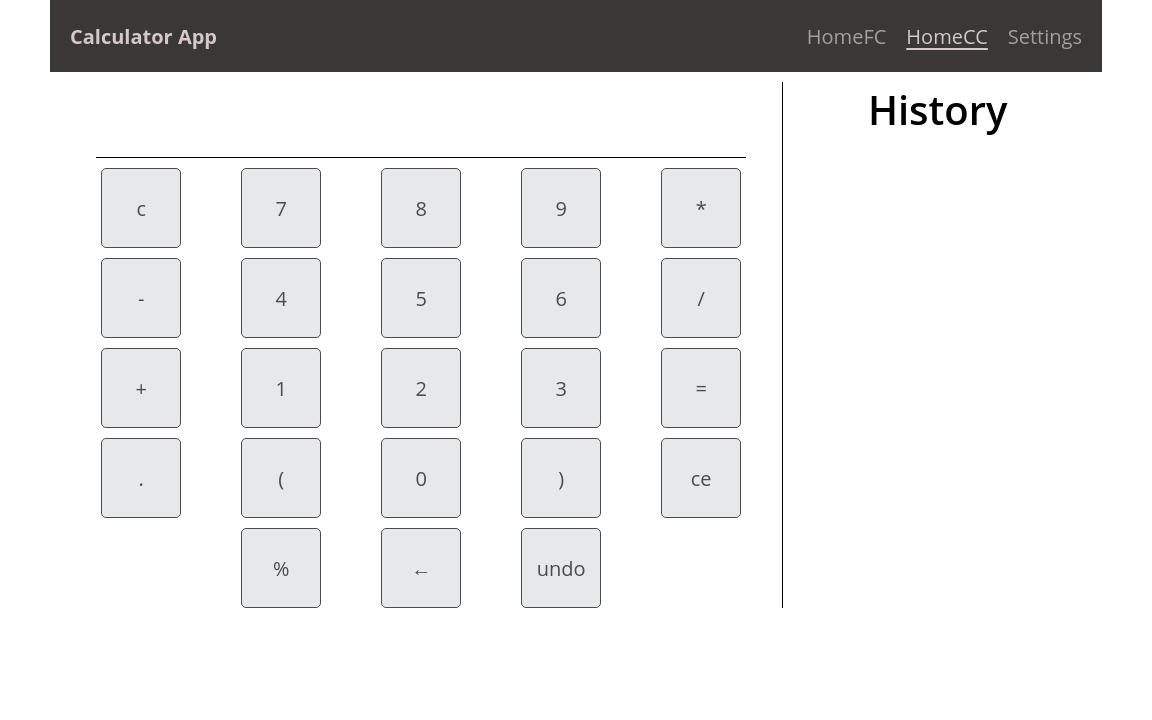
it: test calcurator app › testing CC divide command
Expected: the element with test id "keypadCC" is shown, [60,158,782,608]
Click the text "5" at (421, 298), box [381,258,461,338]
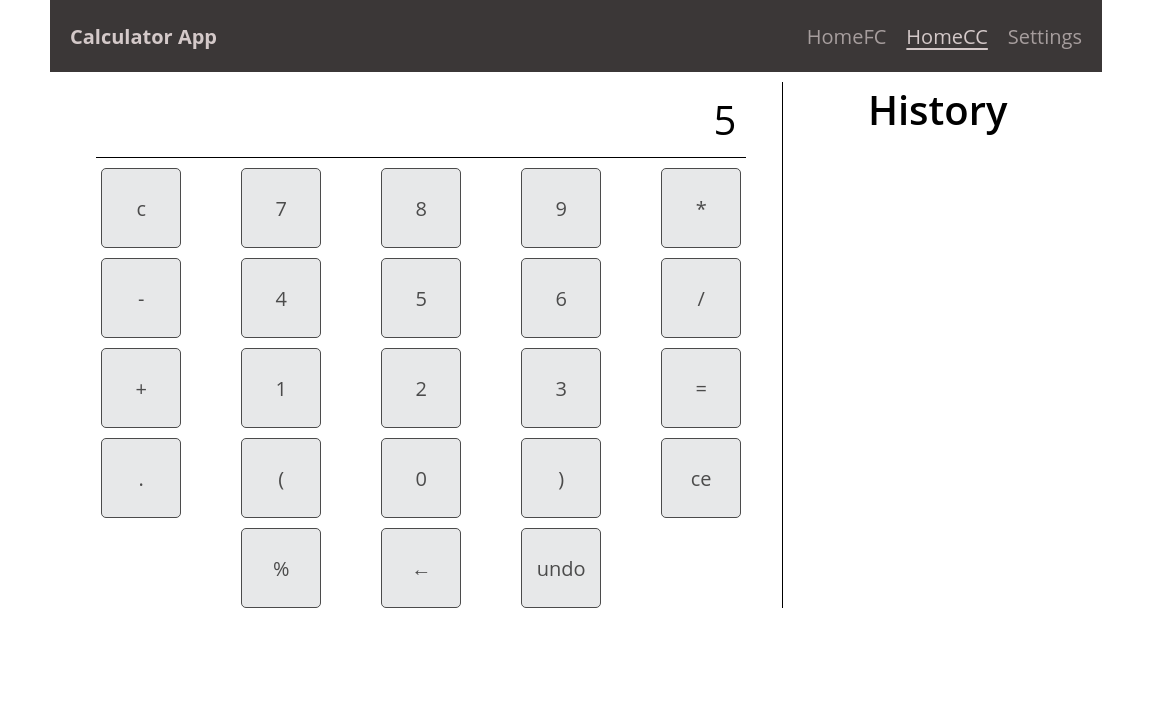
Expected: the element with test id "keypadCC" is shown, [60,158,782,608]
Click the text "/" at (701, 298), box [661,258,741,338]
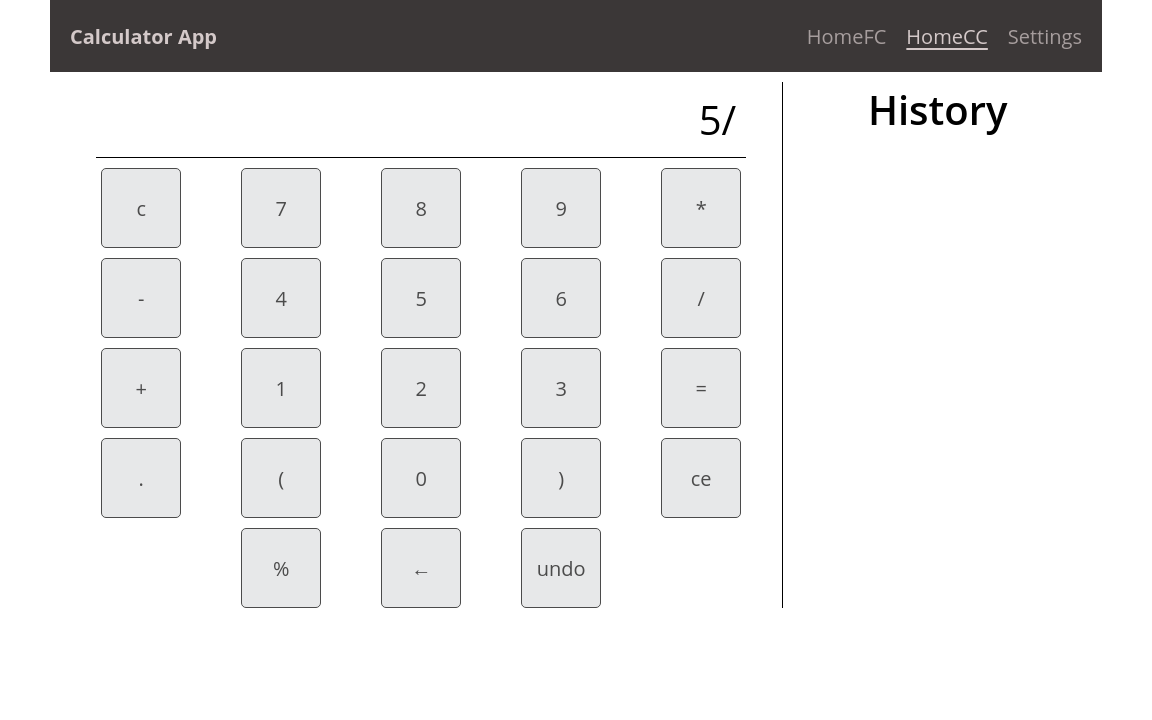
Expected: the element with test id "keypadCC" is shown, [60,158,782,608]
Click the text "6" at (561, 298), box [521,258,601,338]
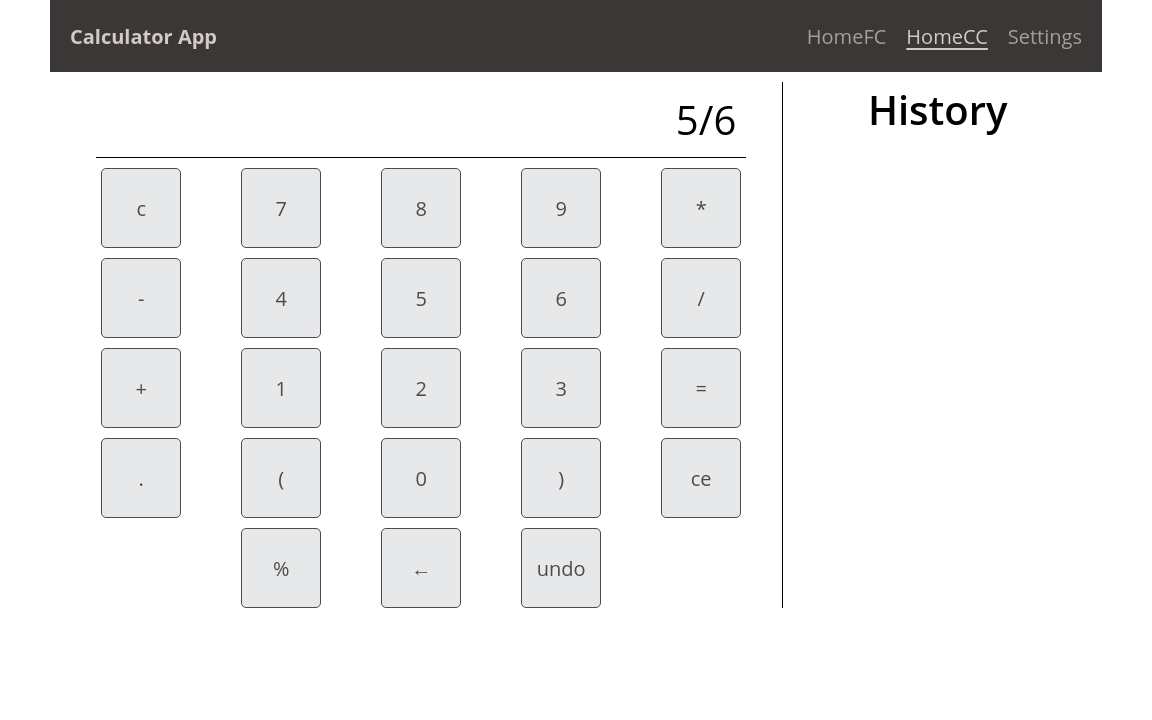
Expected: the element with test id "keypadCC" is shown, [60,158,782,608]
Click the text "=" at (701, 388), box [661,348,741,428]
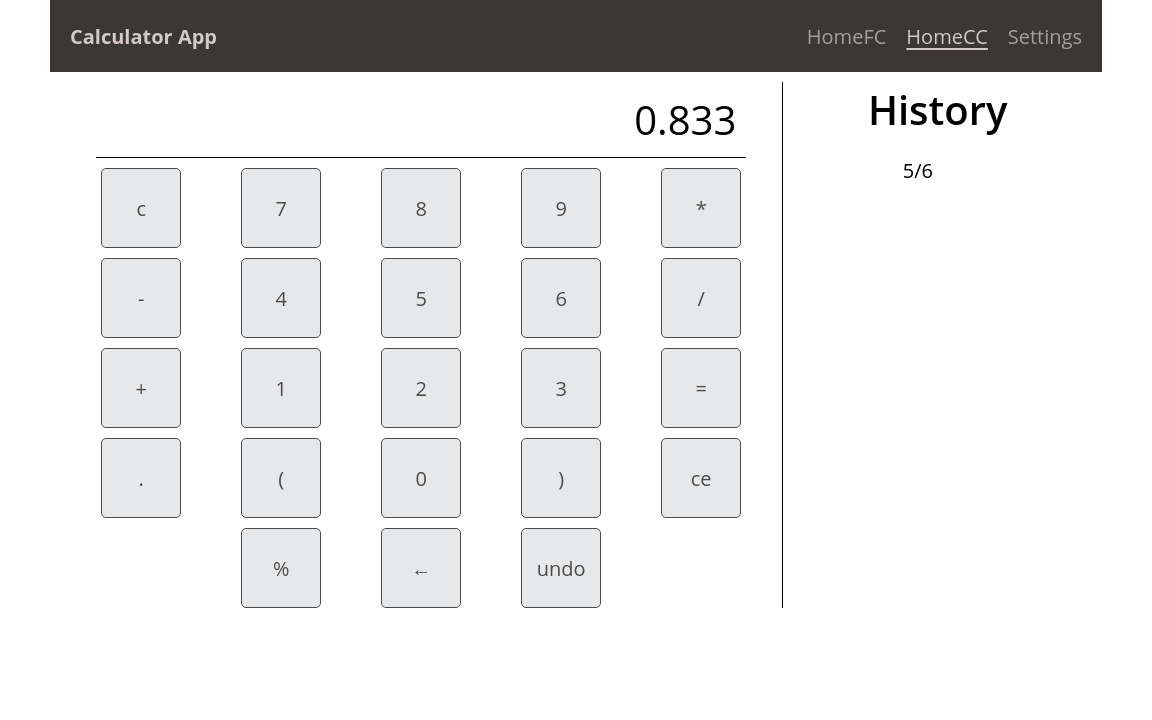
Expected: the element with test id "historyCC" is shown, [868,82,1008,184]
Expected: the field with test id "displayCC" holds "0.833", [96,82,746,157]
Expected: the text "5/6" is shown, [903,157,933,184]
